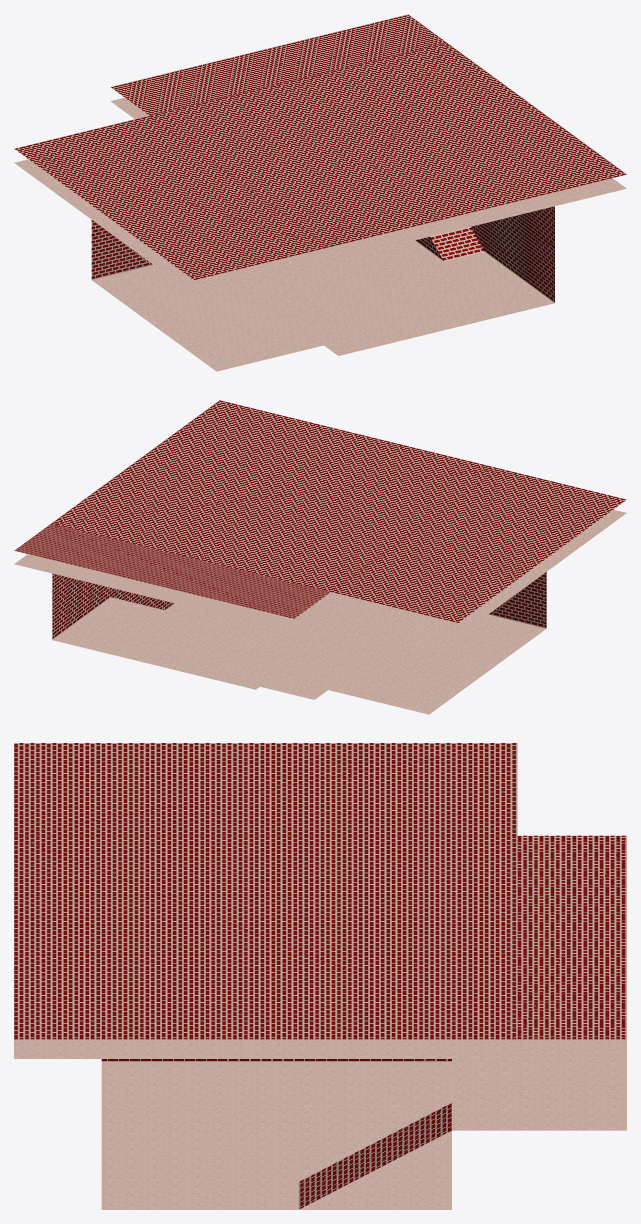
3 renders of one model, top to bottom at view 1: azimuth 30°, elevation 25°; view 2: azimuth 150°, elevation 25°; view 3: azimuth 270°, elevation 25°, orthographic. The views are drawn at different scales.
Visible parts, largest first — view 1: Plane.003; view 2: Plane.003; view 3: Plane.003.
Part boxes in pixels (left/top/right/bottom): Plane.003: left=14, top=14, right=626, bottom=371; Plane.003: left=14, top=400, right=626, bottom=714; Plane.003: left=14, top=743, right=626, bottom=1209.
Bounding box in the file's own units: 32 × 10 × 28.
Materials: 2 (2 with a texture image).
